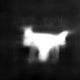plane: (20, 24, 74, 63)
